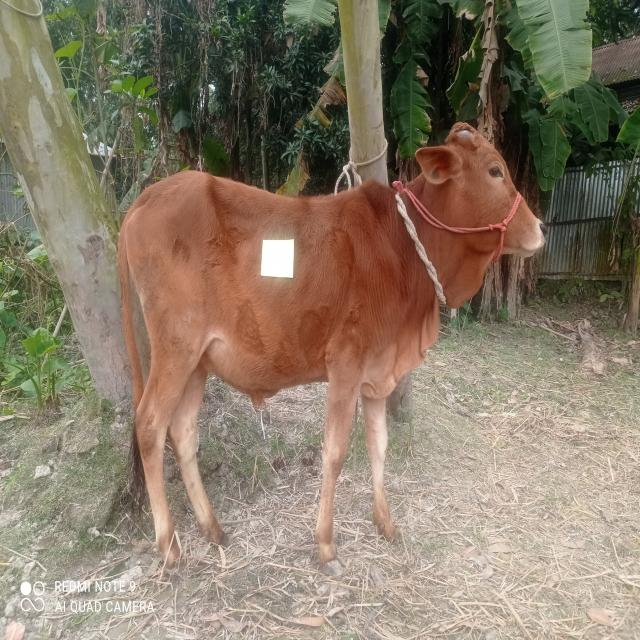badan_sapi: (129, 196, 387, 388)
sapi: (117, 121, 552, 571)
